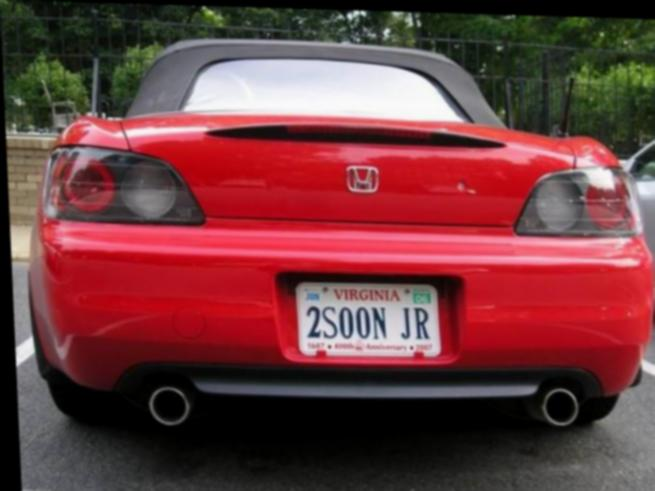License_Plate: (289, 276, 450, 367)
